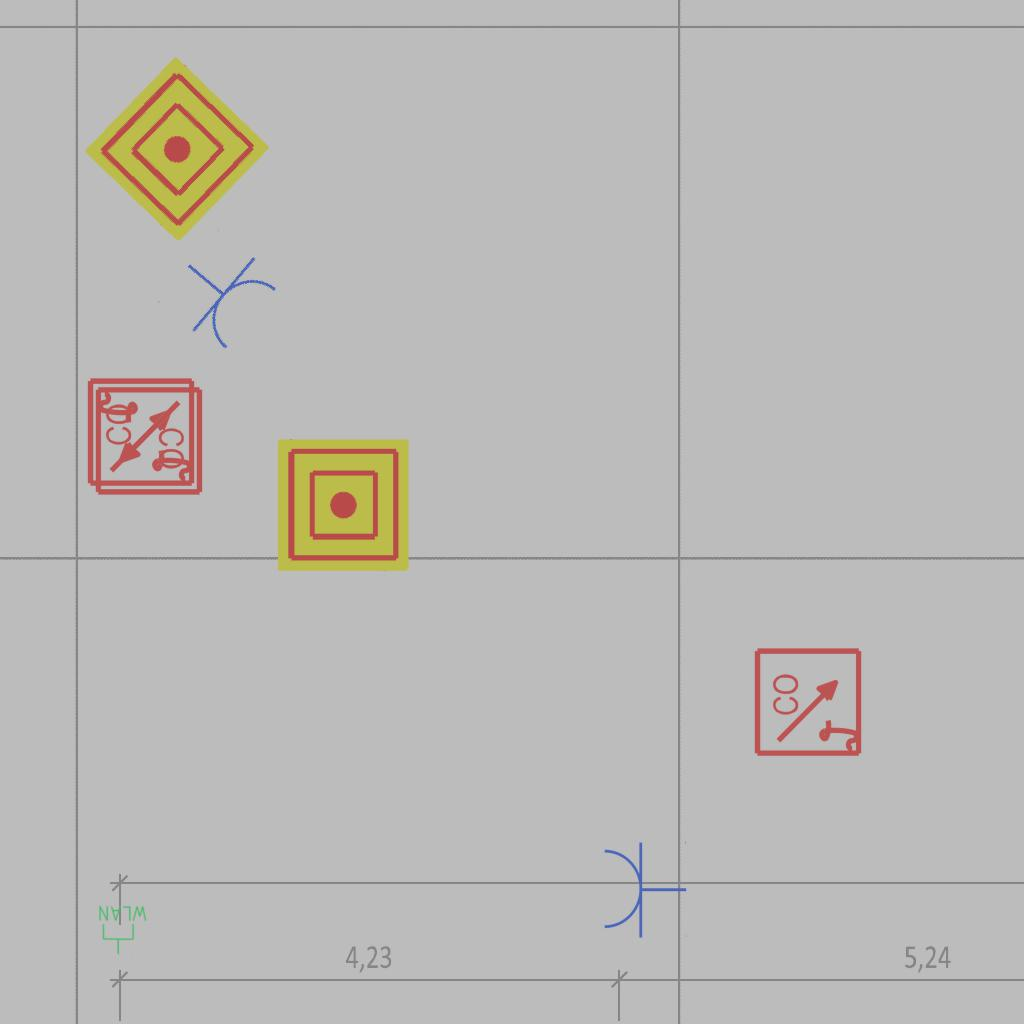NAM-Nichtautomatischer_Melder: (83, 55, 271, 243), (277, 439, 409, 571)
ROA_Rauchmelder_optisch_mit_Signalgeber_(Sockelsirene): (753, 645, 866, 758), (86, 375, 199, 488), (91, 385, 204, 498)
Schukosteckdose_einfach: (155, 227, 287, 360), (600, 839, 687, 939)
WLAN: (97, 904, 149, 956)
